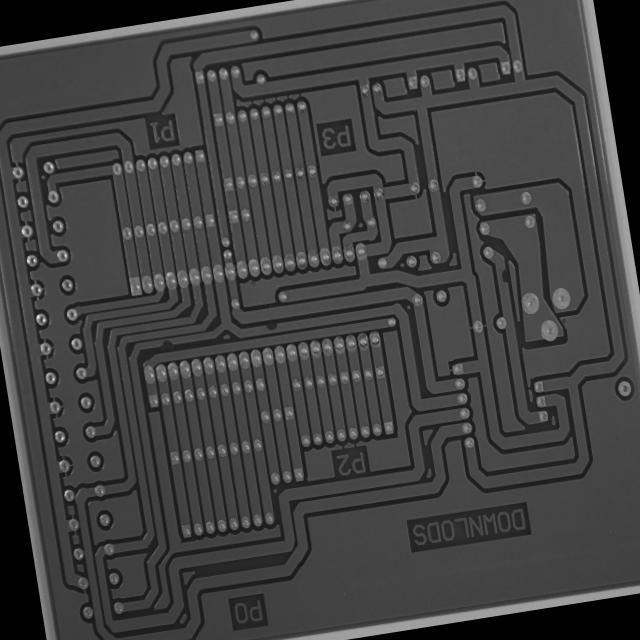mouse_bite: (498, 264, 514, 288), (262, 317, 282, 334), (158, 336, 175, 352)
